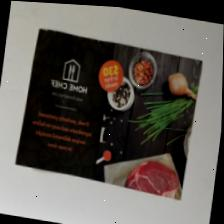paper: (0, 13, 224, 222)
